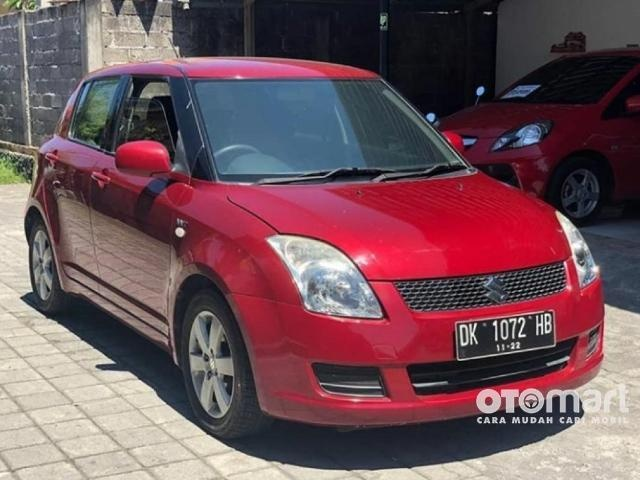plate: (452, 312, 570, 355)
